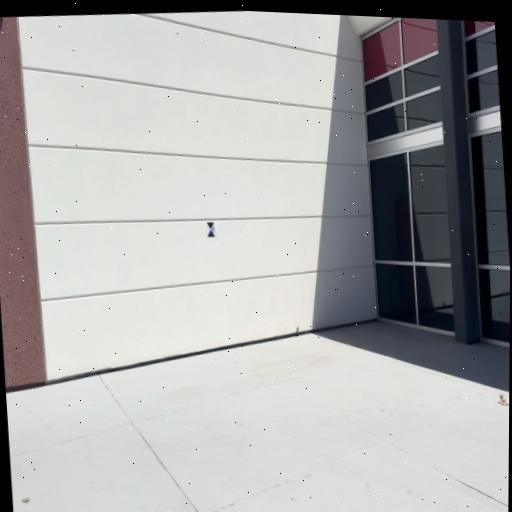target4: (206, 222, 215, 238)
